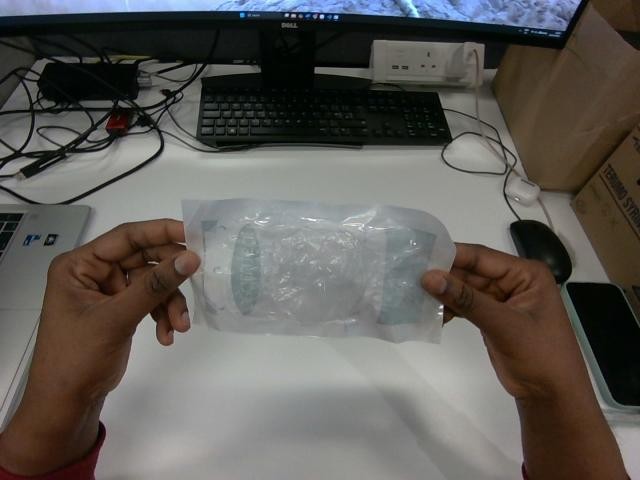gallipot: (182, 199, 455, 342)
